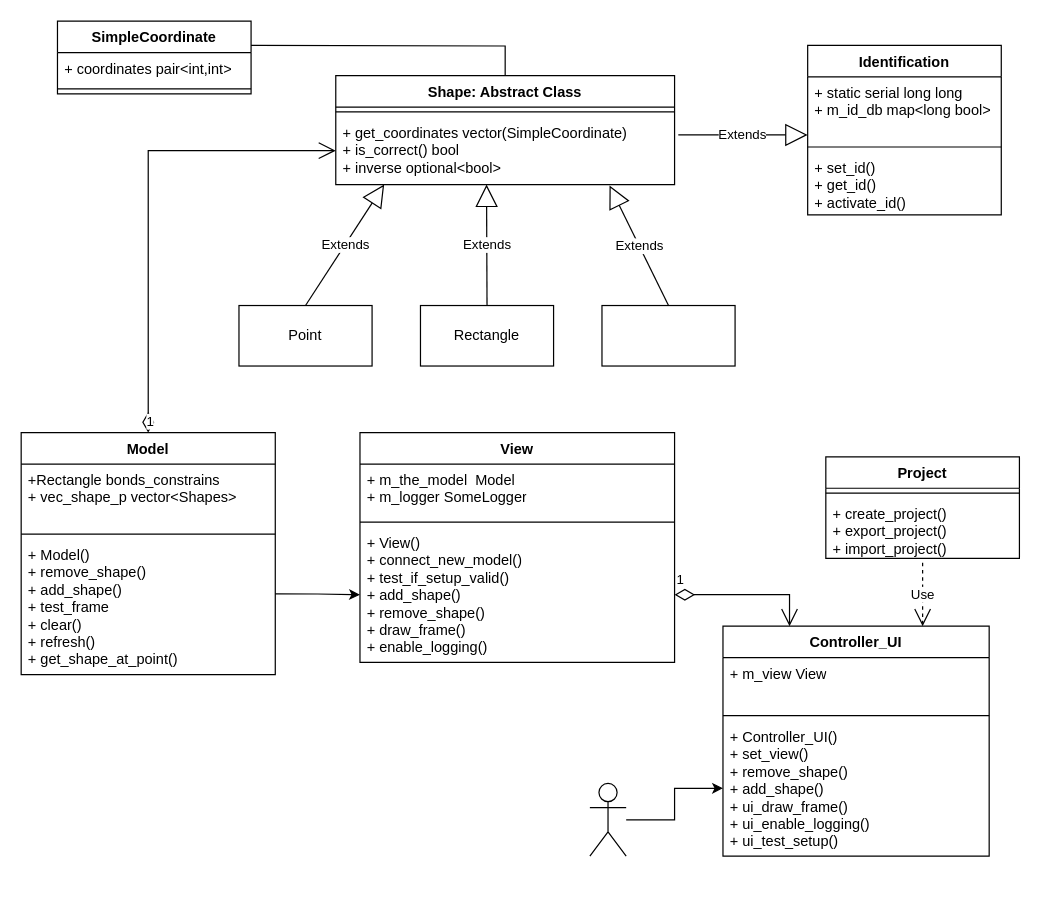
Some shapes in this 1041 by 903 pixel diagram are drawn without their labels. The shapes that lost their labels are listed below. From the top down, each one's centre as x and y in pixels, then its label:
At pixel 668 335: "Line".
At pixel 607 819: "Actor".
